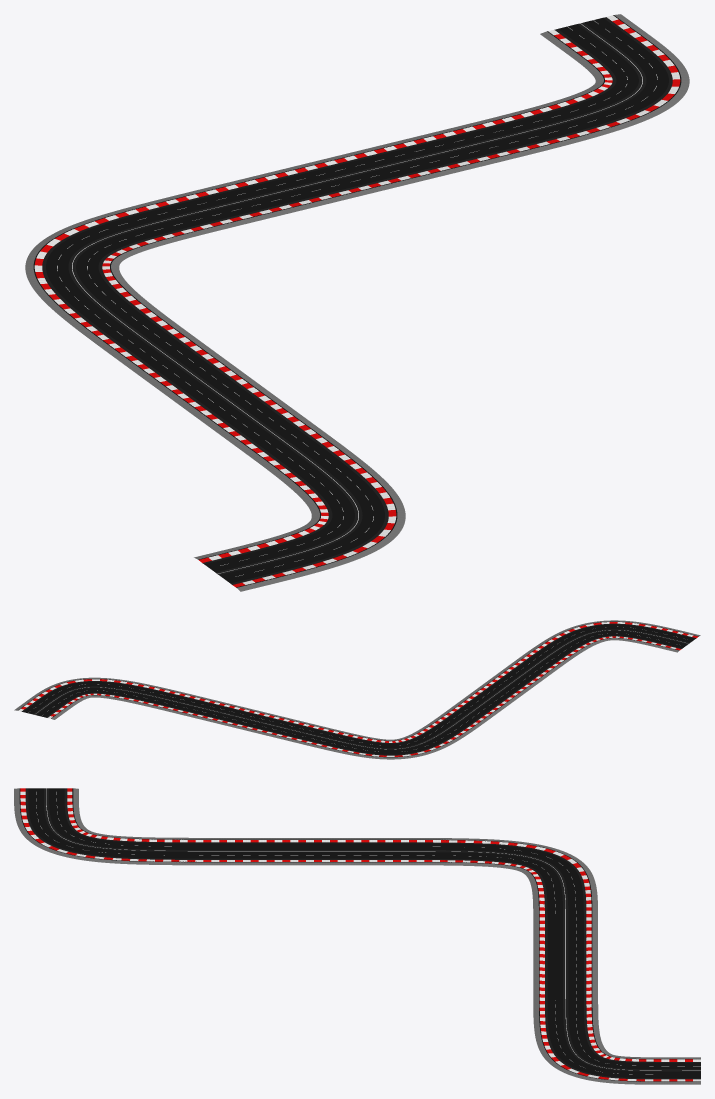
Rendered from S0.3c3h0-1-chikC.glb.
3 renders of one model, top to bottom at view 1: azimuth 30°, elevation 25°; view 2: azimuth 150°, elevation 25°; view 3: azimuth 270°, elevation 25°, orthographic. The views are drawn at different scales.
Visible parts, largest first — view 1: Grid.001; view 2: Grid.001; view 3: Grid.001.
Boxes of the visible parts, x1,y1,x2,y2 form: Grid.001: (25, 14, 689, 591); Grid.001: (14, 620, 700, 759); Grid.001: (14, 788, 700, 1084).
Size of the model in its own units: 270 by 0.31 by 265.
